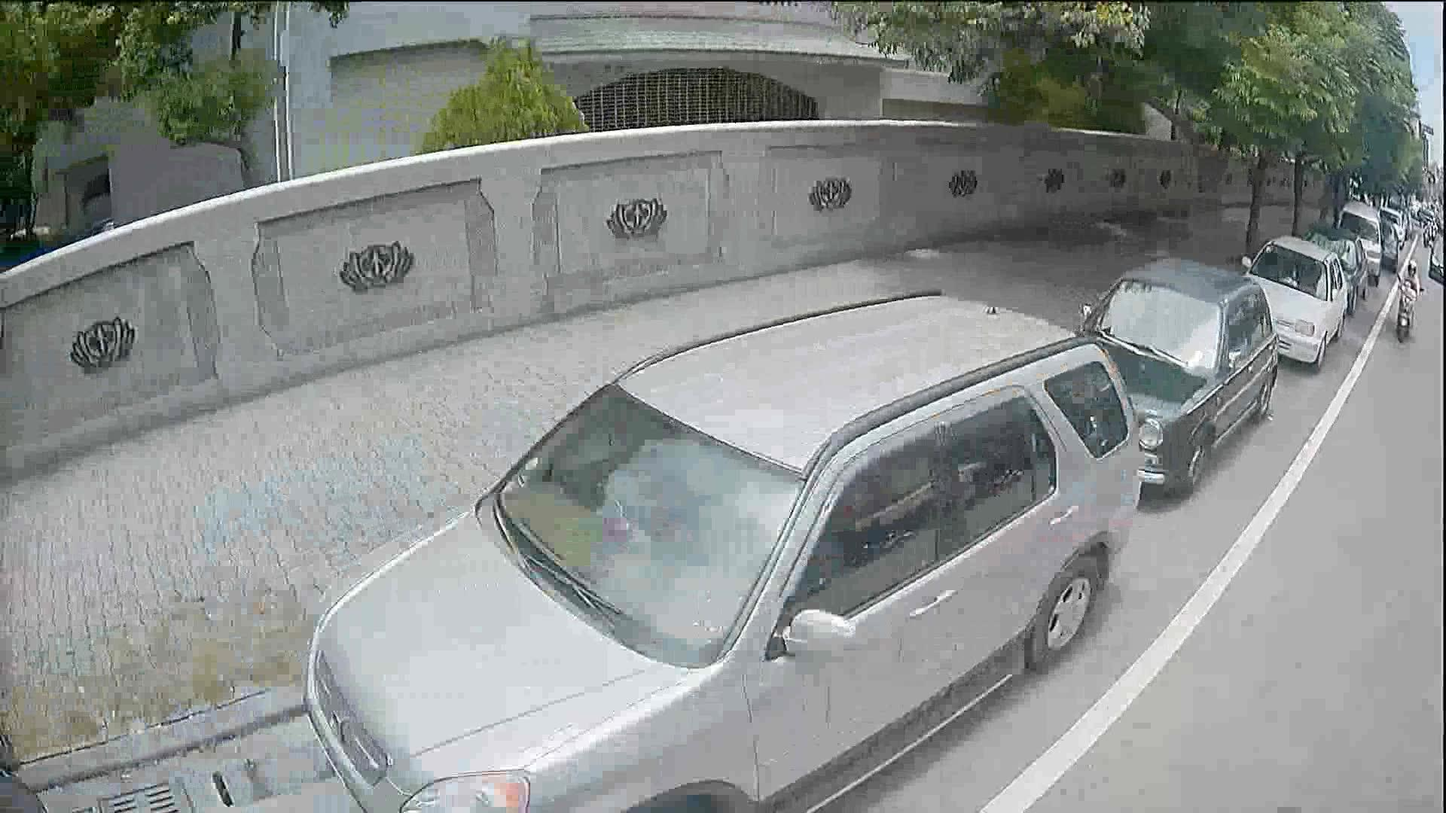person: (1398, 259, 1420, 291)
